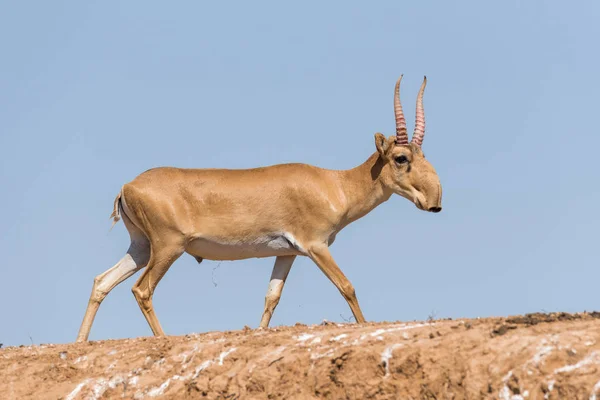saiga: (72, 73, 445, 337)
